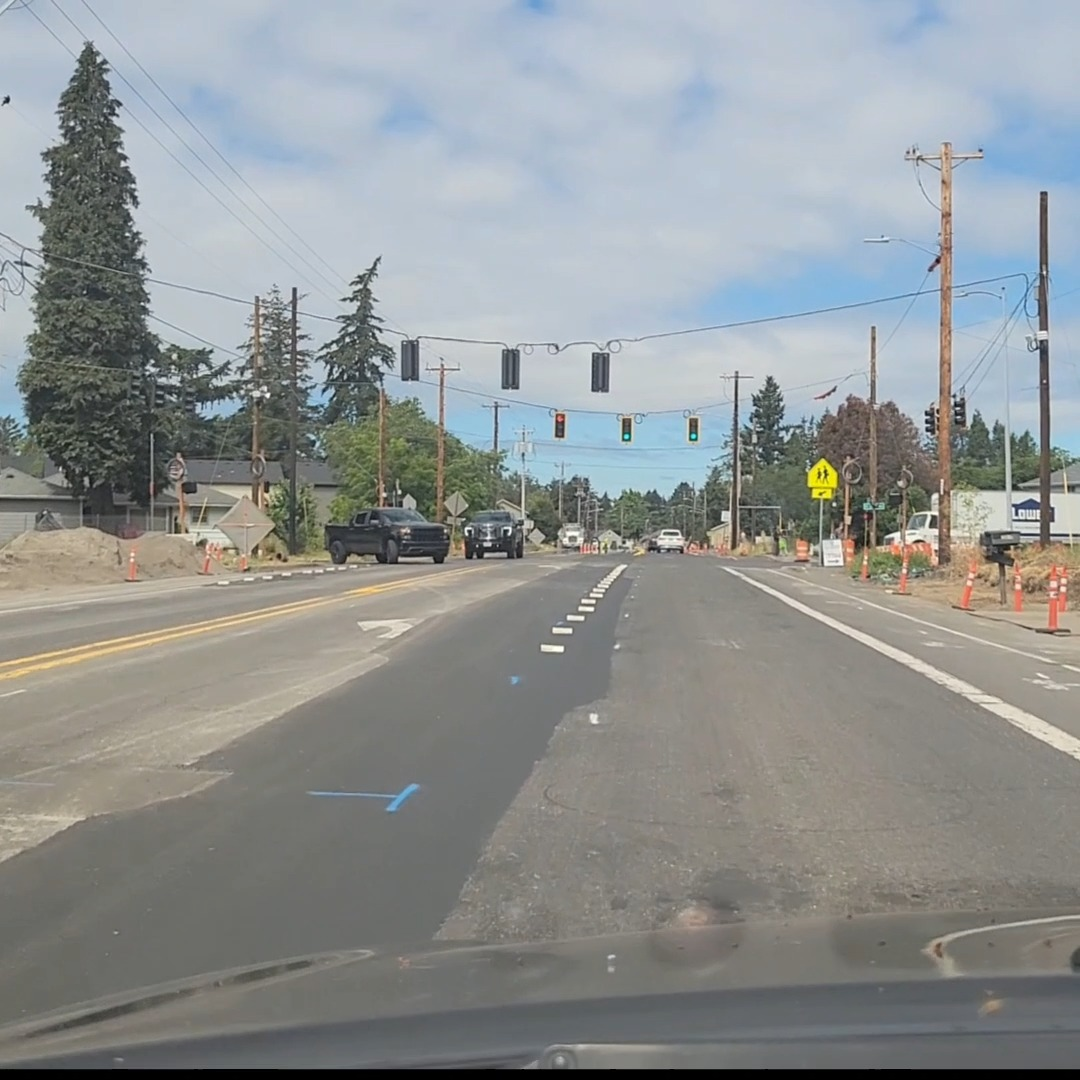car: (324, 507, 450, 564), (461, 510, 525, 559), (647, 528, 686, 553), (557, 522, 585, 550)
crosswalk-sign: (806, 457, 837, 497)
delineator: (1046, 567, 1066, 628), (958, 560, 978, 610), (894, 546, 913, 594), (1011, 563, 1026, 612), (198, 541, 217, 575), (859, 542, 871, 578), (125, 548, 138, 581), (238, 551, 249, 571)
